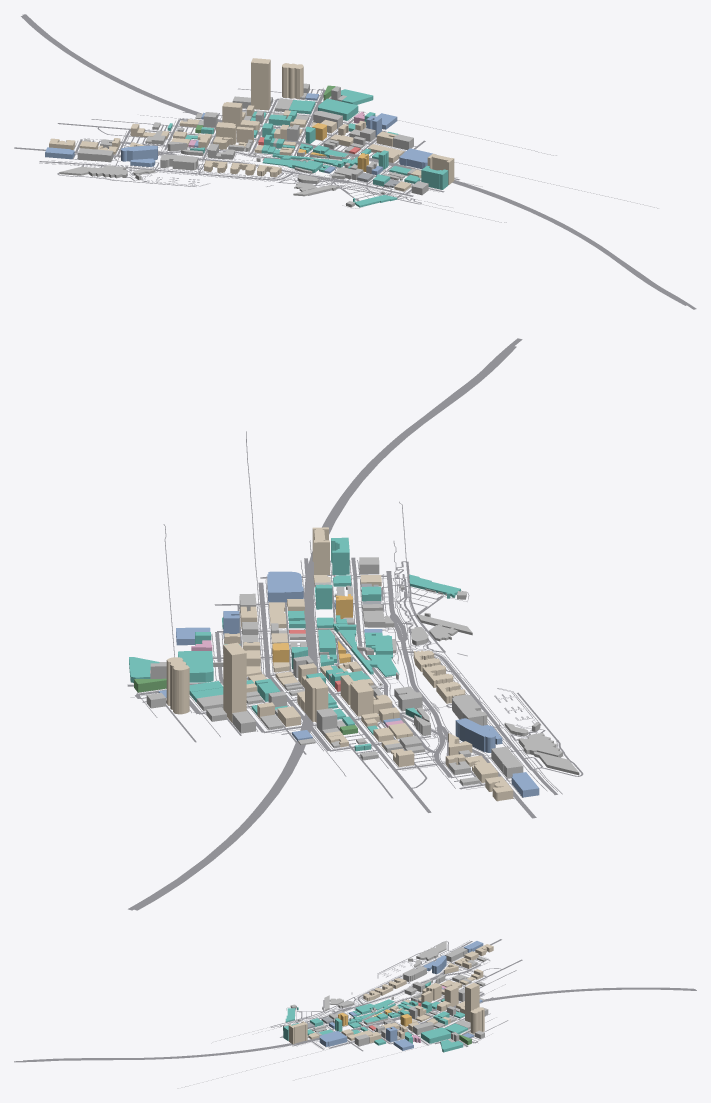
The model's file is pike_place.gltf.
3 renders of one model, top to bottom at view 1: azimuth 30°, elevation 25°; view 2: azimuth 150°, elevation 25°; view 3: azimuth 270°, elevation 25°, orthographic. The views are drawn at different scales.
Bounding box in the file's own units: 1461 × 154 × 2813.
